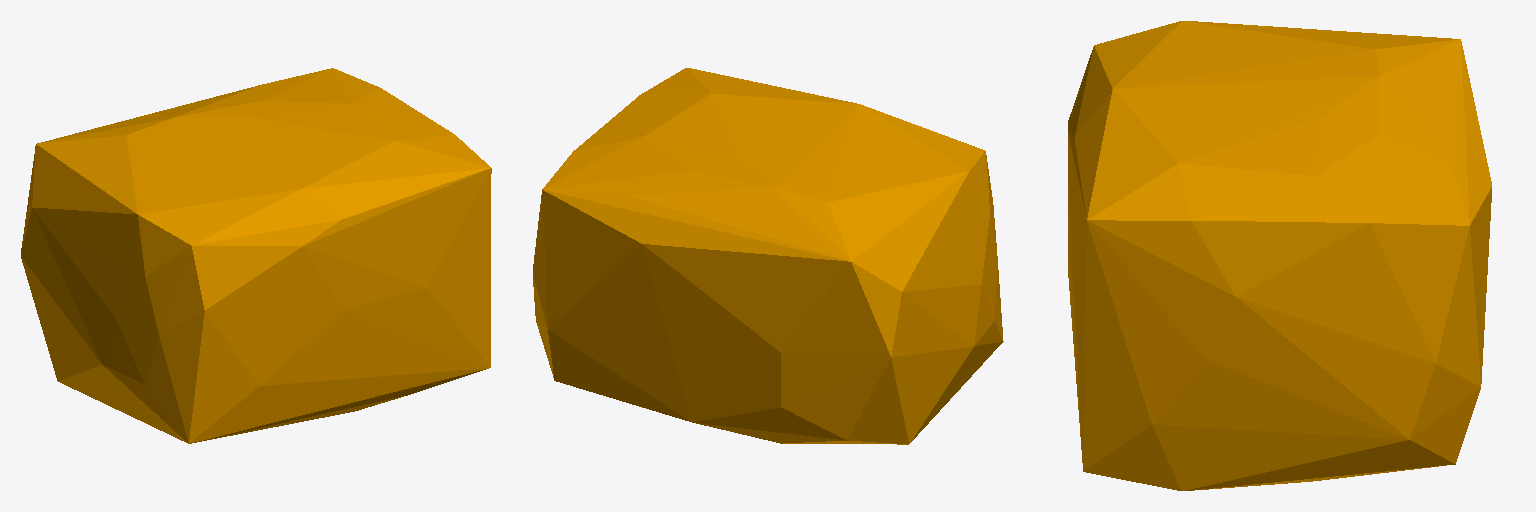
robot.urdf — 078_014_2263:
<?xml version="1.0"?>
<robot name="078_014_2263">
  <link name="link">
    <contact>
      <lateral_friction value="0.6"/>
    </contact>
    <inertial>
      <mass value = "0.4639818964296734"/>
      <inertia ixx="0.0002023254975065986" ixy="9.55805039706552e-07" ixz="4.3154498988592267e-07" iyy="0.0002674555259933303" iyz="1.7507423953699813e-07" izz="0.0003104430011467434" />
    </inertial>
    <visual name="visual">
      <geometry>
        <mesh filename="078_014_2263.obj"/>
      </geometry>
    </visual>
    <collision name="collision">
      <geometry>
        <mesh filename="078_014_2263.obj"/>
      </geometry>
    </collision>
  </link>
</robot>

--- Render facts (derived) ---
Views: 3 orthographic renders of the robot side by side, from view 1: azimuth 30°, elevation 25°; view 2: azimuth 150°, elevation 25°; view 3: azimuth 270°, elevation 25°.
Robot: 078_014_2263 — 1 links, 0 joints (none); root link link; default pose: all joints at 0.
Links seen in each view (by area): view 1: link; view 2: link; view 3: link.
Boxes of the visible links, <box> form: link: <box>21,68,491,443</box>; link: <box>533,68,1003,444</box>; link: <box>1068,21,1491,490</box>.
Size in the robot's own frame: 0.0766 by 0.0619 by 0.0513 metres.
1 mesh visuals loaded from 1 distinct referenced files (1 OBJ).
